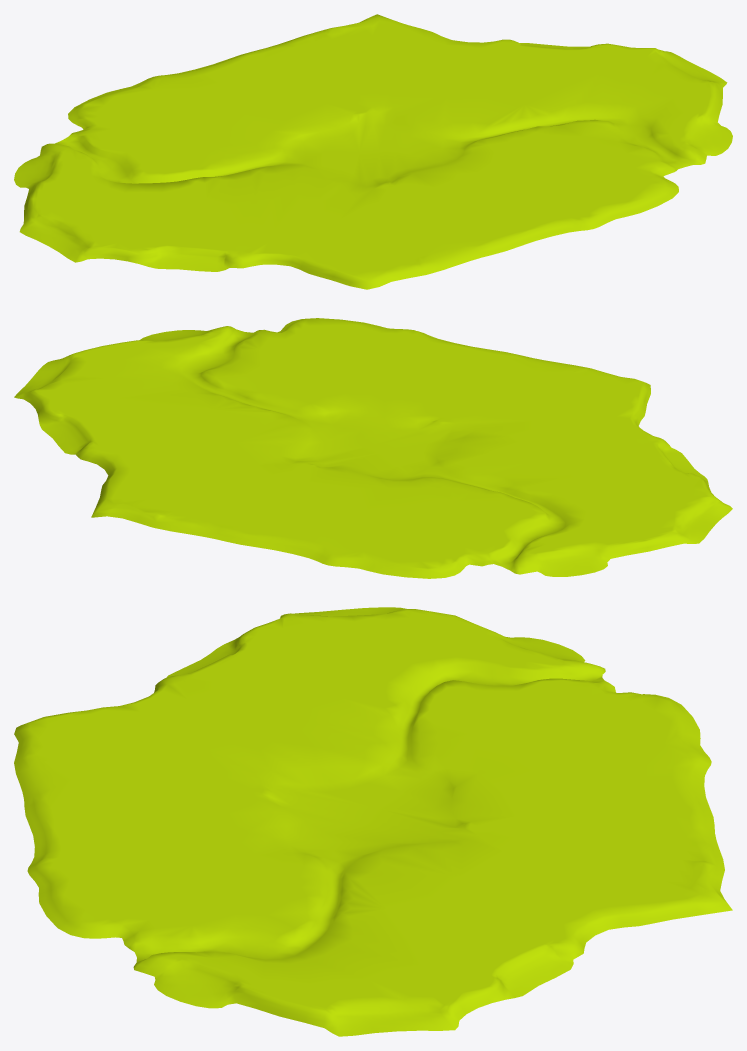
Rendered from BigLand.FBX.
3 views of the same model, one above another, from view 1: azimuth 30°, elevation 25°; view 2: azimuth 150°, elevation 25°; view 3: azimuth 270°, elevation 25° (orthographic). The views are drawn at different scales.
Visible parts, largest first — view 1: Big Land; view 2: Big Land; view 3: Big Land.
Part boxes in pixels (x1=…): Big Land: x1=14, y1=14, x2=732, y2=289; Big Land: x1=14, y1=318, x2=732, y2=578; Big Land: x1=14, y1=607, x2=732, y2=1036.
Size of the model in its own units: 169 by 2.92 by 120.
